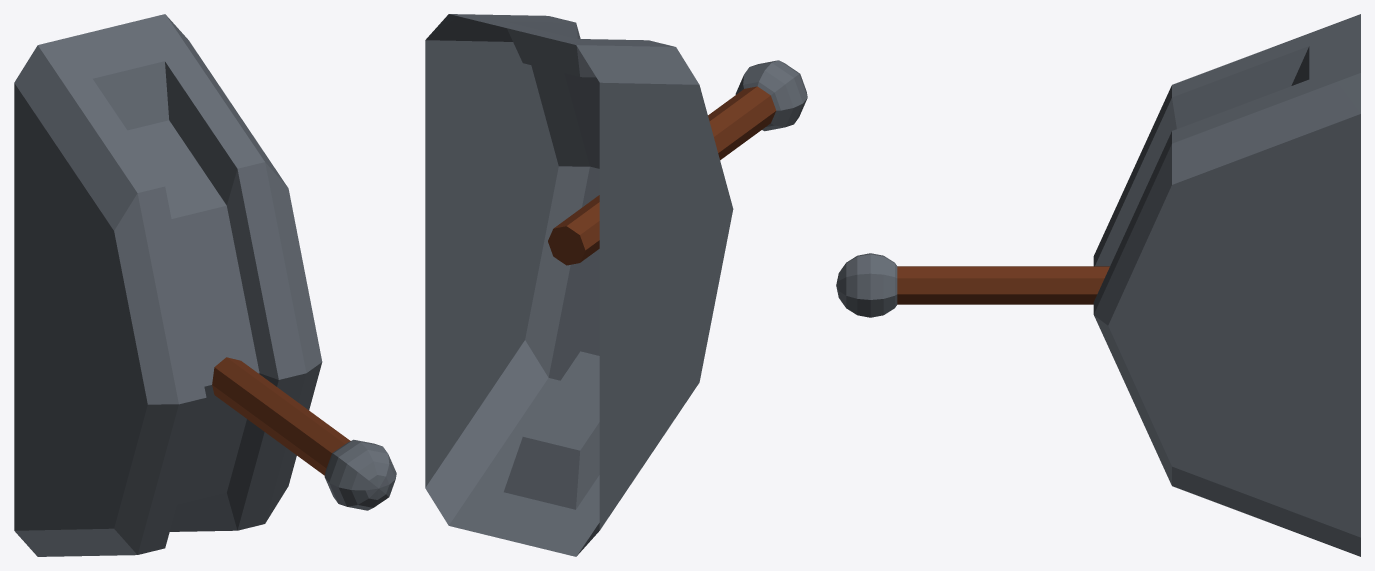
Rendered from Lever.glb.
The picture shows the model from 3 angles, left to right: view 1: azimuth 30°, elevation 25°; view 2: azimuth 150°, elevation 25°; view 3: azimuth 270°, elevation 25°; orthographic projection. The views are drawn at different scales.
Visible parts, largest first — view 1: lever_base, lever; view 2: lever_base, lever; view 3: lever_base, lever.
Part boxes in pixels (x1=…): lever_base: x1=14, y1=14, x2=322, y2=556; lever: x1=212, y1=357, x2=396, y2=510; lever_base: x1=425, y1=14, x2=733, y2=556; lever: x1=548, y1=60, x2=807, y2=265; lever_base: x1=1093, y1=14, x2=1360, y2=556; lever: x1=836, y1=253, x2=1109, y2=317.
Bounding box in the file's own units: 0.1472 × 0.4126 × 0.4052.
